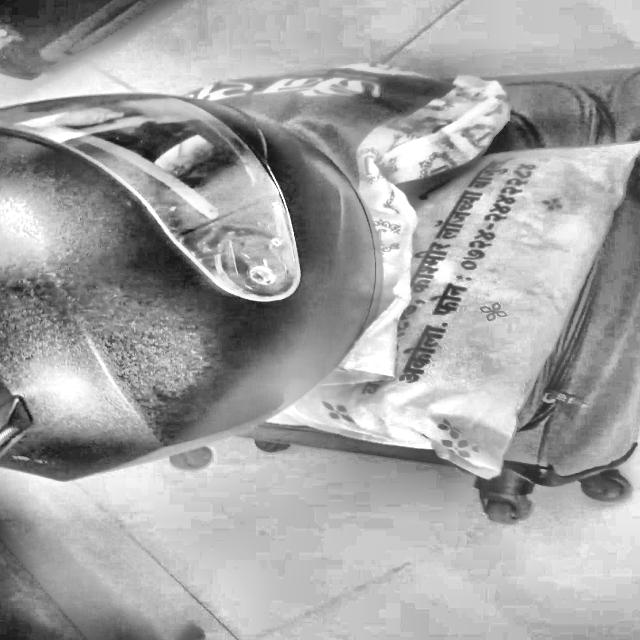Helmet: (0, 89, 407, 491)
